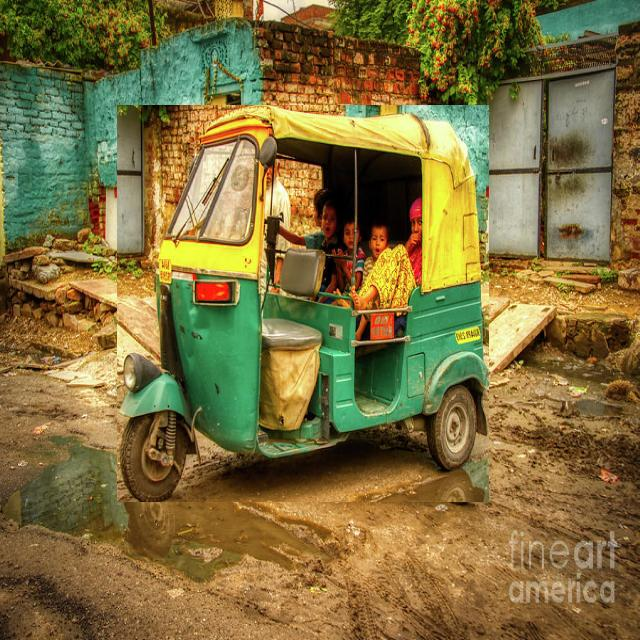autorickshaw: (118, 105, 489, 502)
